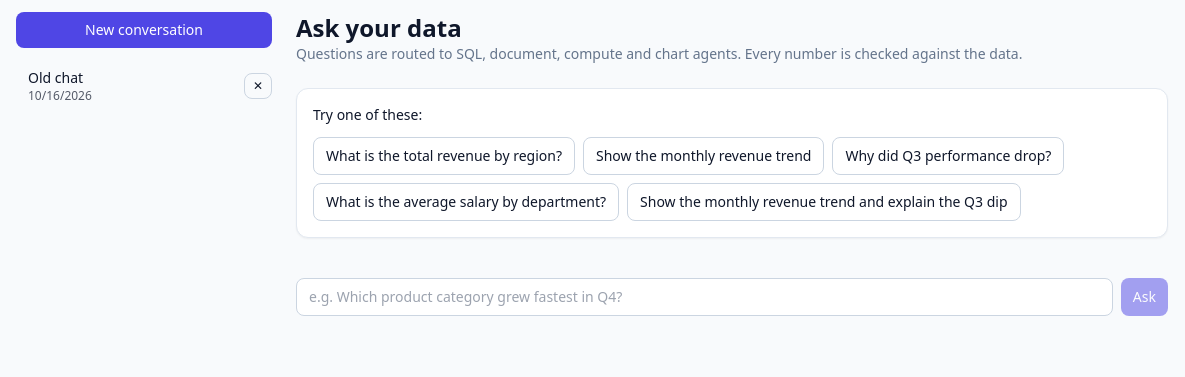
Test: Ask page › shows an inline error when opening a chat fails
This screenshot has width=1185, height=377.
Step 1. Click the text "Old chat" → (56, 78), box [28, 68, 83, 87]
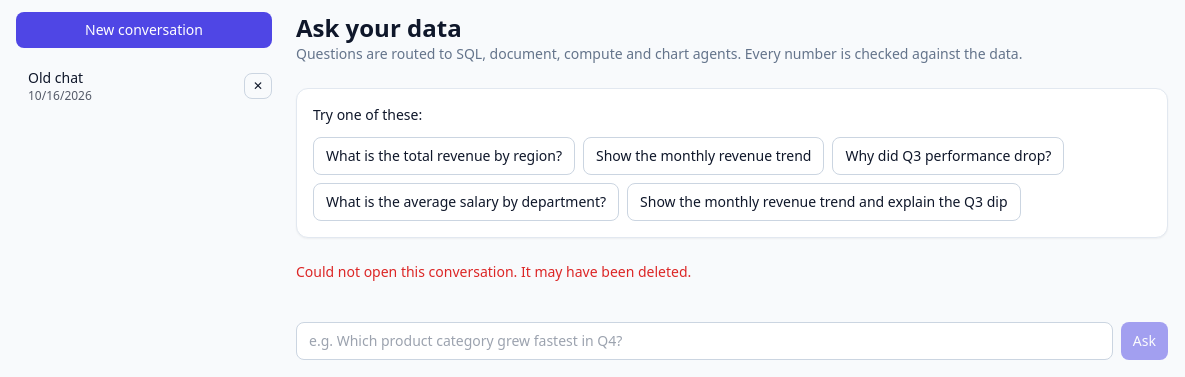
Result: the message shows "Could not open" at [296, 262, 691, 281]
